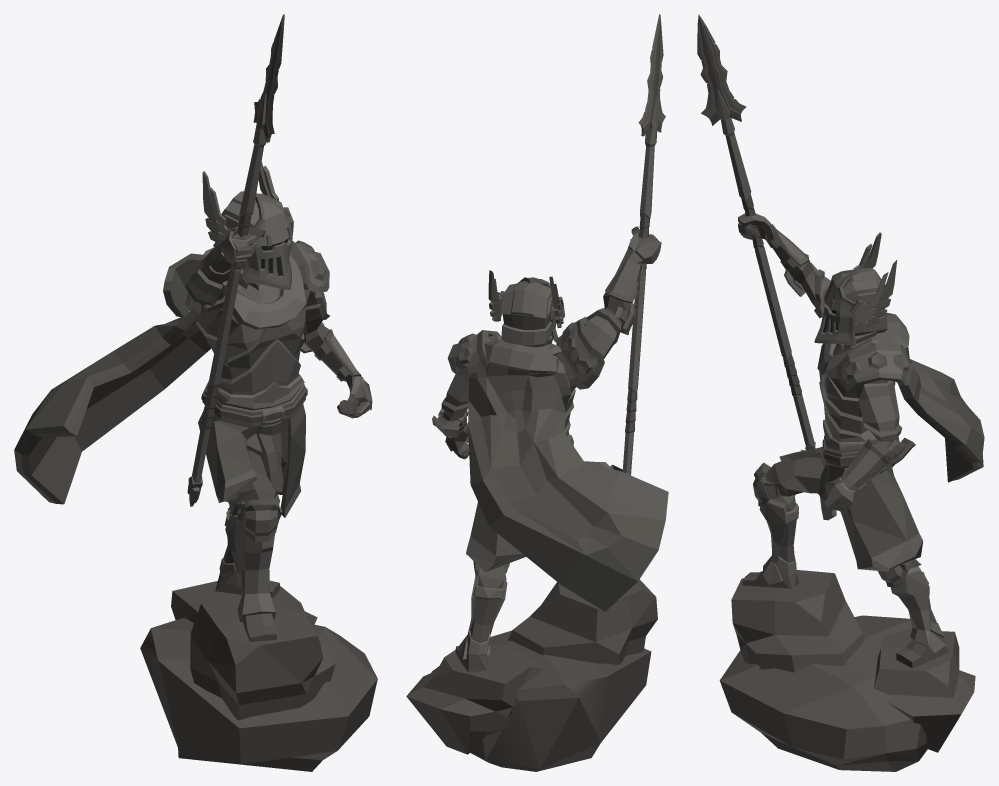
File: prop_statue_hero.gltf
3 renders of one model, left to right at view 1: azimuth 30°, elevation 25°; view 2: azimuth 150°, elevation 25°; view 3: azimuth 270°, elevation 25°, orthographic. The views are drawn at different scales.
Parts seen in each view (by area): view 1: prop_statue_hero; view 2: prop_statue_hero; view 3: prop_statue_hero.
Part boxes in pixels (x1,y1,x2,y2): prop_statue_hero: [14, 14, 377, 771]; prop_statue_hero: [406, 14, 668, 771]; prop_statue_hero: [697, 14, 984, 771].
Bounding box in the file's own units: 1.75 × 4.39 × 1.63.
Materials: 1 (1 with a texture image).
